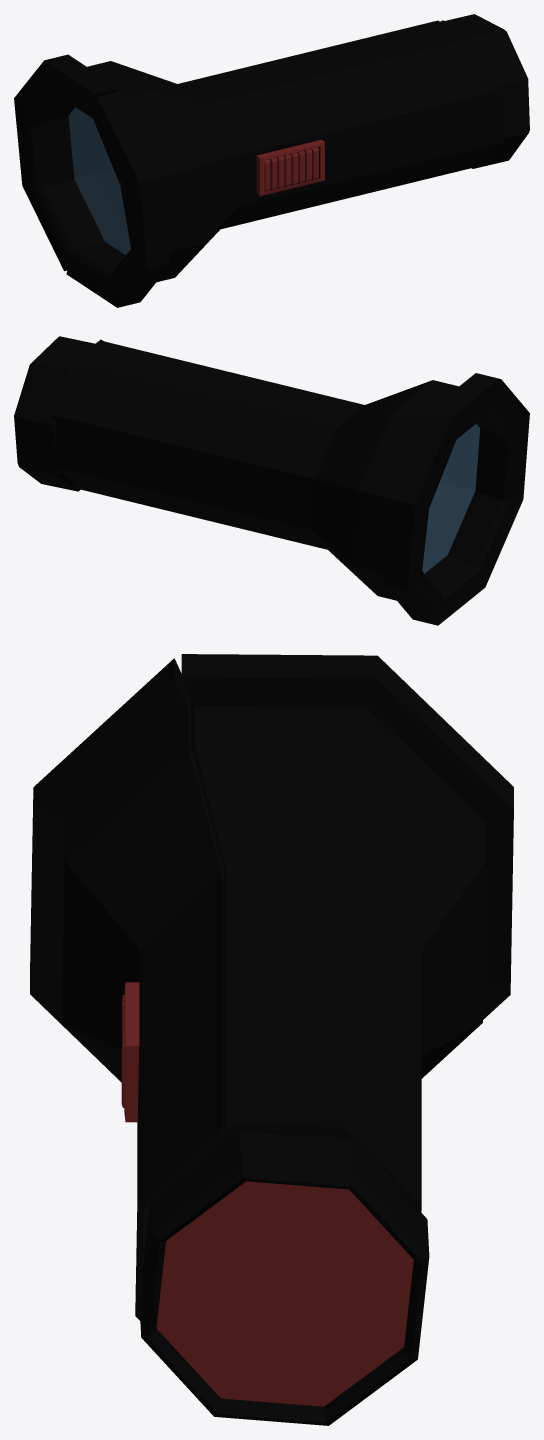
Rendered from flashlight.fbx.
The picture shows the model from 3 angles, top to bottom: view 1: azimuth 30°, elevation 25°; view 2: azimuth 150°, elevation 25°; view 3: azimuth 270°, elevation 25°; orthographic projection. The views are drawn at different scales.
Visible parts, largest first — view 1: Cylinder.001; view 2: Cylinder.001; view 3: Cylinder.001.
Boxes of the visible parts, box(x1,y1,x2,y2) form: Cylinder.001: box(14, 14, 529, 307); Cylinder.001: box(14, 336, 529, 625); Cylinder.001: box(30, 654, 513, 1425).
Size of the model in its own units: 659 by 318 by 321.
